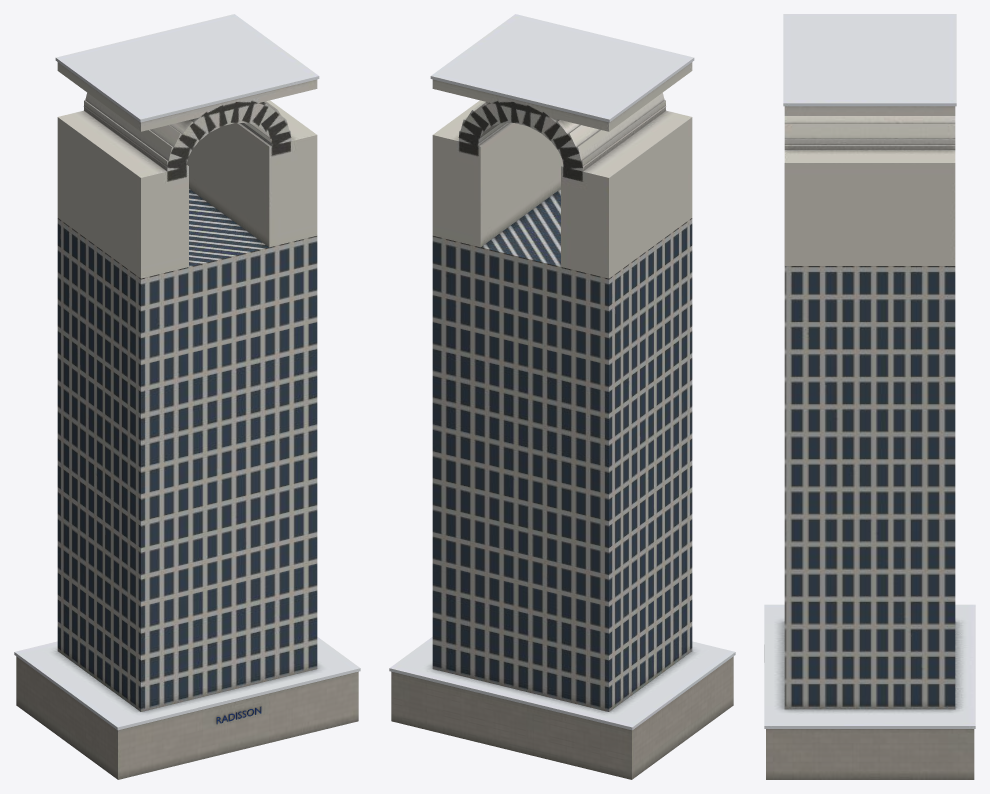
File: radisson_fargo.glb
3 views of the same model, side by side, from view 1: azimuth 30°, elevation 25°; view 2: azimuth 150°, elevation 25°; view 3: azimuth 270°, elevation 25° (orthographic). The views are drawn at different scales.
Parts seen in each view (by area): view 1: radisson_fargo; view 2: radisson_fargo; view 3: radisson_fargo.
Boxes of the visible parts, x1,y1,x2,y2 form: radisson_fargo: [14, 14, 360, 779]; radisson_fargo: [389, 14, 735, 779]; radisson_fargo: [764, 14, 975, 779].
Bounding box in the file's own units: 30.3 × 77.05 × 22.31.
1 material, 1 textured.
